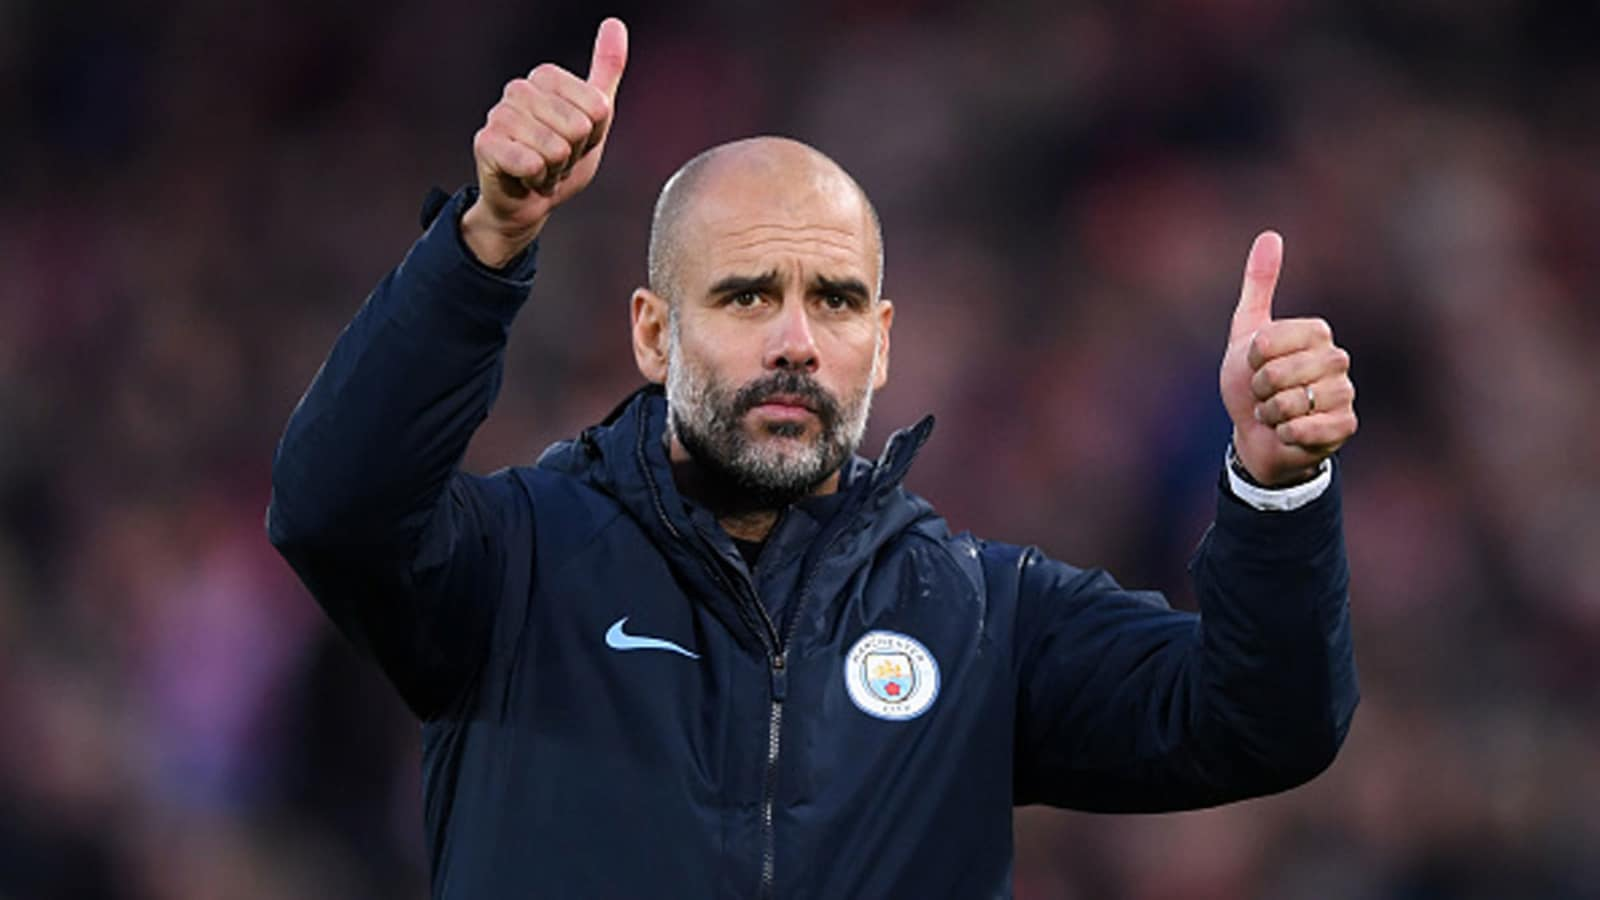thumbsUp: (1182, 215, 1379, 488), (434, 1, 630, 232)
